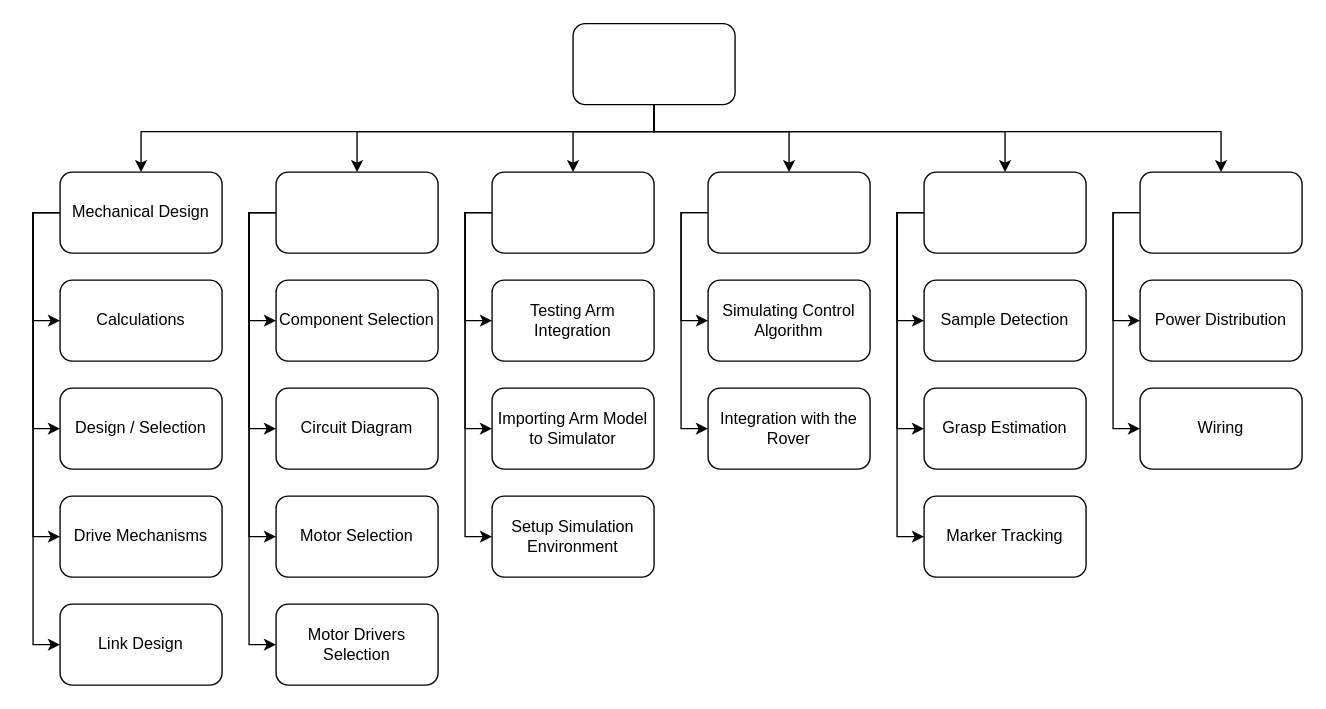
Some shapes in this 1326 by 709 pixel diagram are drawn without their labels. Here are the shapes that lost their labels. From the top down, the centre of each, then its label:
point (653, 63): Robotic Arm
point (356, 212): Electrical Design
point (572, 212): Simulation
point (788, 212): Control
point (1004, 212): Perception
point (1220, 212): Power Regulation & Distribution
